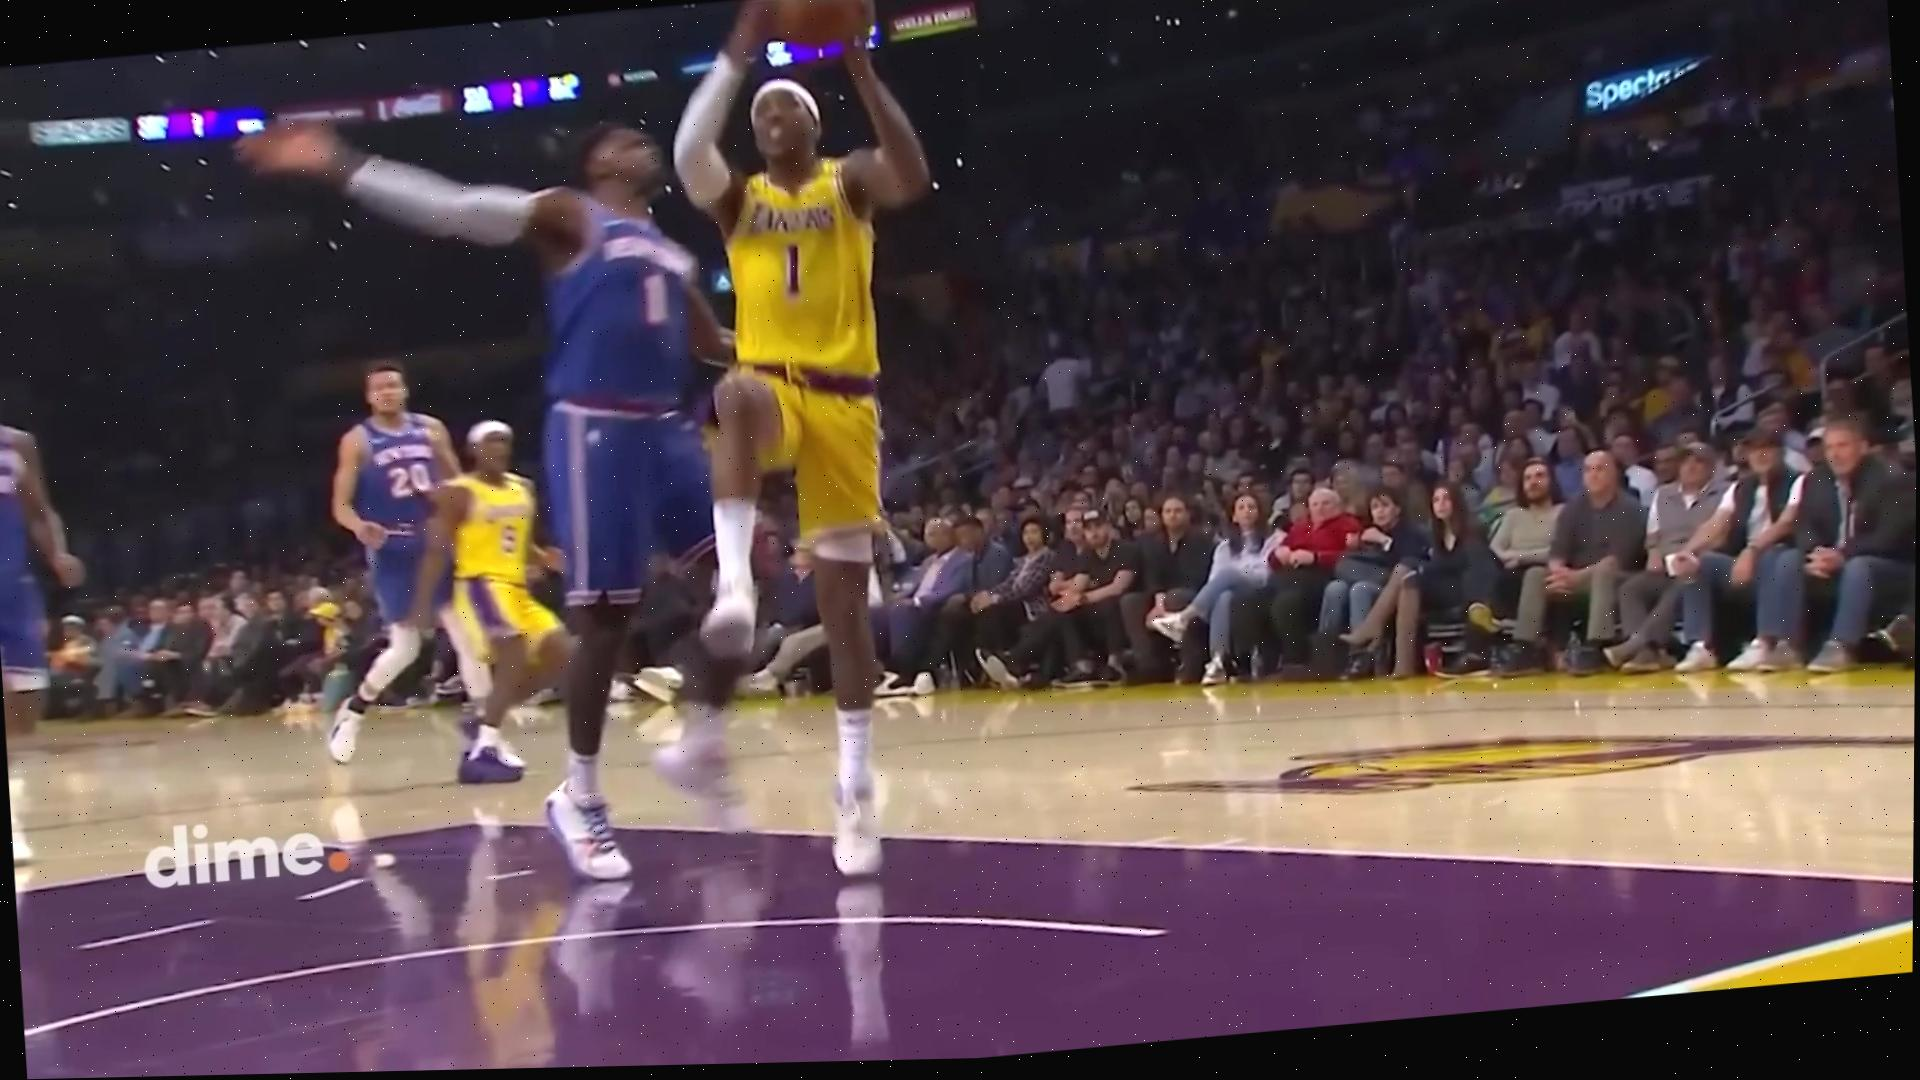no_foul: (351, 37, 963, 947)
